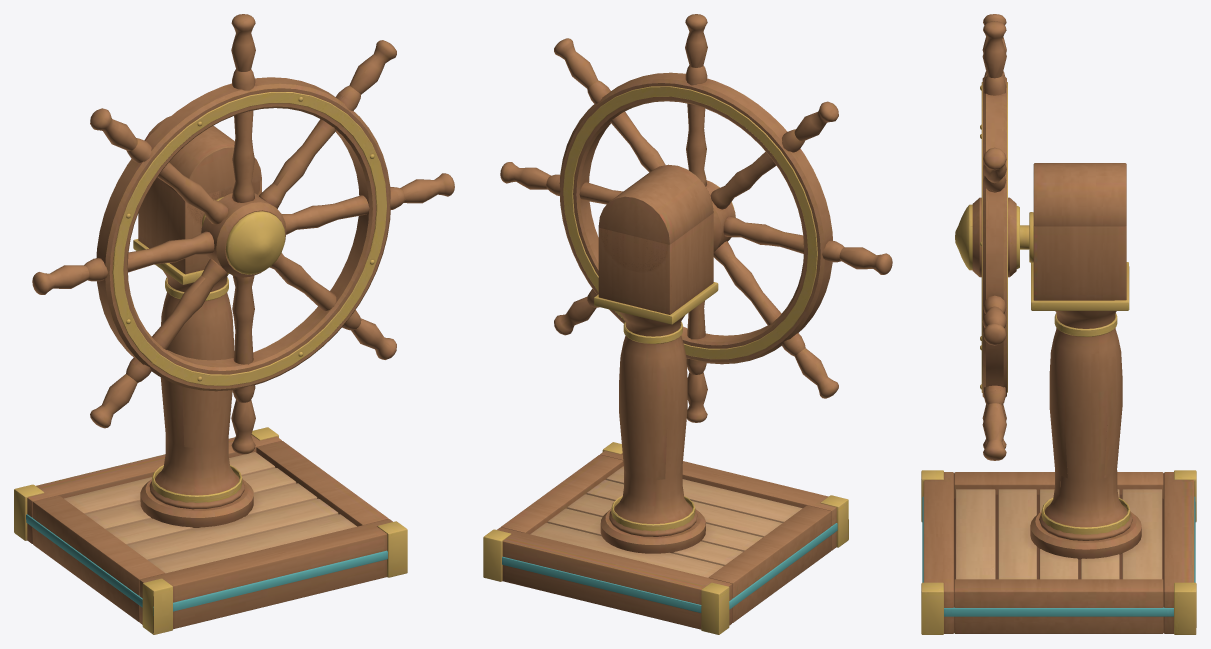
File: timon.glb
3 renders of one model, left to right at view 1: azimuth 30°, elevation 25°; view 2: azimuth 150°, elevation 25°; view 3: azimuth 270°, elevation 25°, orthographic. The views are drawn at different scales.
Parts seen in each view (by area): view 1: ship-wheel_body; view 2: ship-wheel_body; view 3: ship-wheel_body.
Boxes of the visible parts, x1=… form: ship-wheel_body: x1=14, y1=14, x2=454, y2=634; ship-wheel_body: x1=483, y1=14, x2=892, y2=634; ship-wheel_body: x1=921, y1=14, x2=1196, y2=634.
Bounding box in the file's own units: 1.4 × 1.8 × 0.814.
2 materials, 2 textured.
